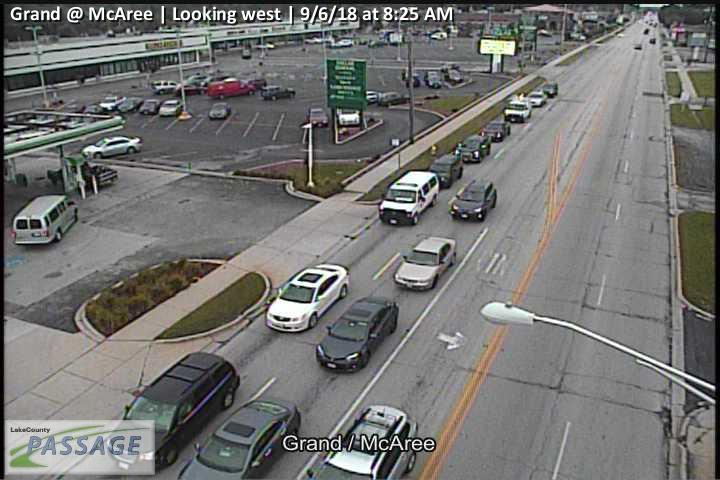SUV: (105, 351, 240, 471), (377, 167, 440, 226), (13, 194, 78, 245), (262, 85, 295, 102), (151, 80, 179, 94)
Sedan: (168, 398, 300, 480), (295, 403, 418, 480), (313, 296, 399, 373), (266, 261, 350, 334), (394, 236, 456, 293), (448, 179, 498, 224), (81, 133, 142, 159), (427, 155, 463, 188), (454, 134, 492, 163), (481, 119, 511, 142), (502, 101, 529, 122), (377, 91, 410, 105), (116, 97, 142, 114), (337, 108, 360, 127), (307, 107, 328, 127), (157, 99, 181, 116), (208, 102, 231, 119), (99, 94, 125, 109), (139, 99, 159, 116), (525, 91, 548, 105), (541, 82, 559, 96)
Truck: (207, 78, 256, 100)
